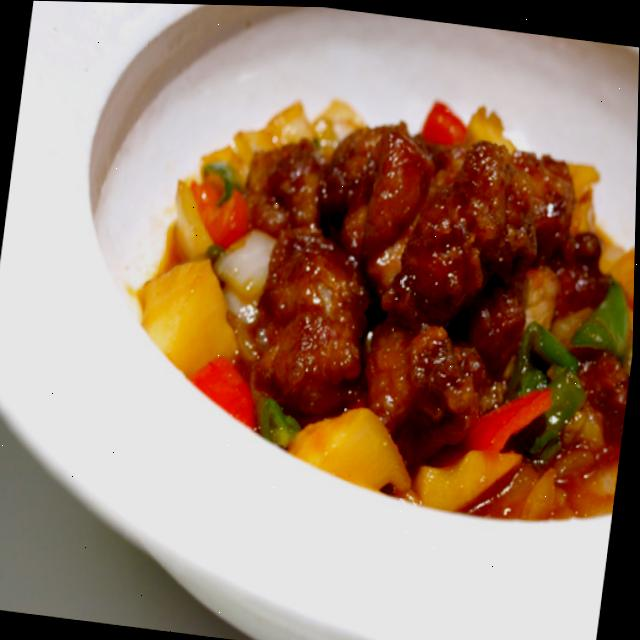猪肉菜式: (115, 61, 639, 531)
